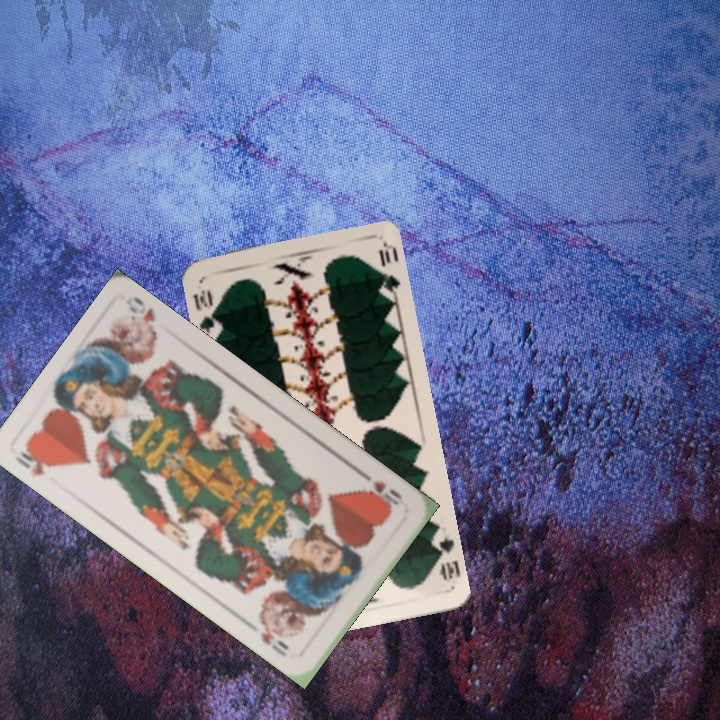G10: (427, 528, 462, 583), (189, 284, 222, 337)
HO: (356, 467, 405, 513), (11, 441, 57, 479)
